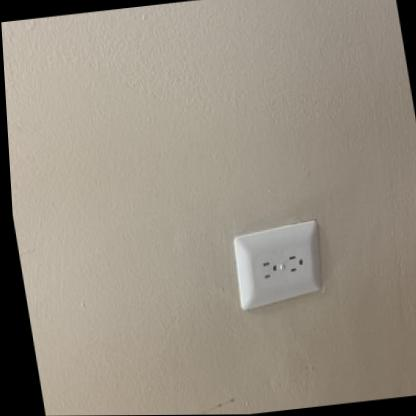OUTLET: (230, 220, 326, 304)
